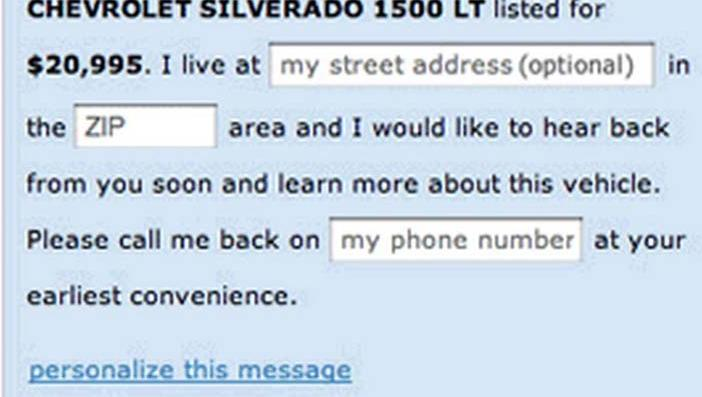field: (260, 41, 654, 87), (318, 215, 584, 264), (68, 101, 220, 150)
field_with_label: (27, 37, 656, 89), (29, 212, 589, 268), (28, 96, 223, 153)
